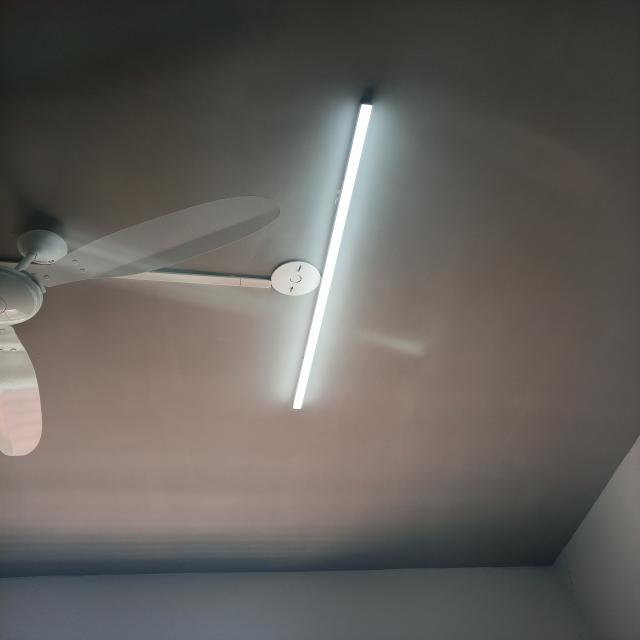light_on: (287, 98, 380, 414)
